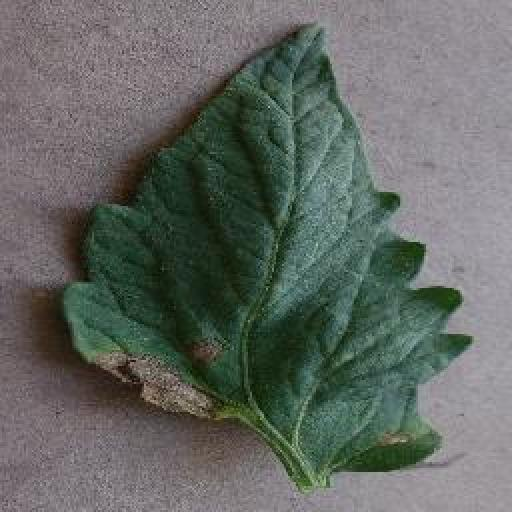Early Blight: (58, 19, 477, 477)
